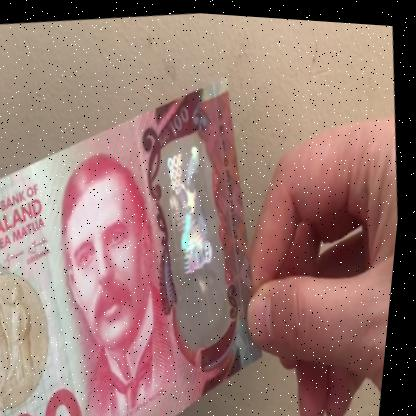100F: (147, 128, 245, 336)
